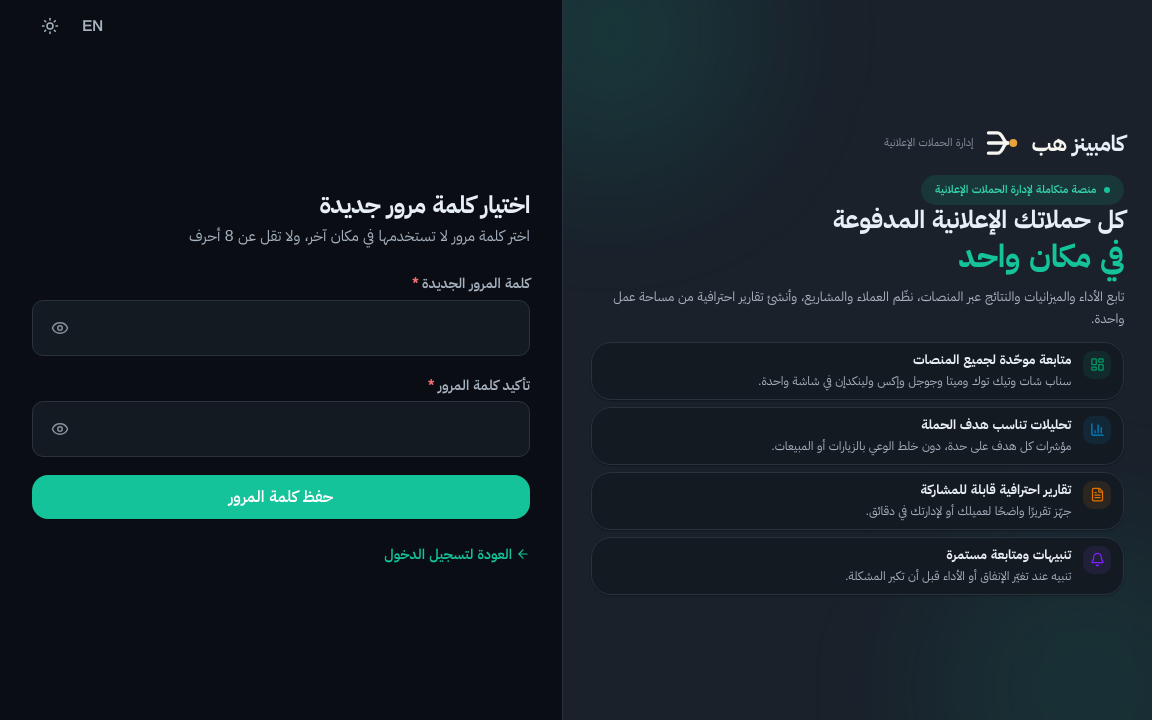
the reset-password page › confirms and offers the way back to sign in
The width and height of the screenshot is (1152, 720).
Type "a-good-password" into the password field labelled "كلمة المرور الجديدة *".
click(281, 328); type("a-good-password")  # box [32,300,530,356]
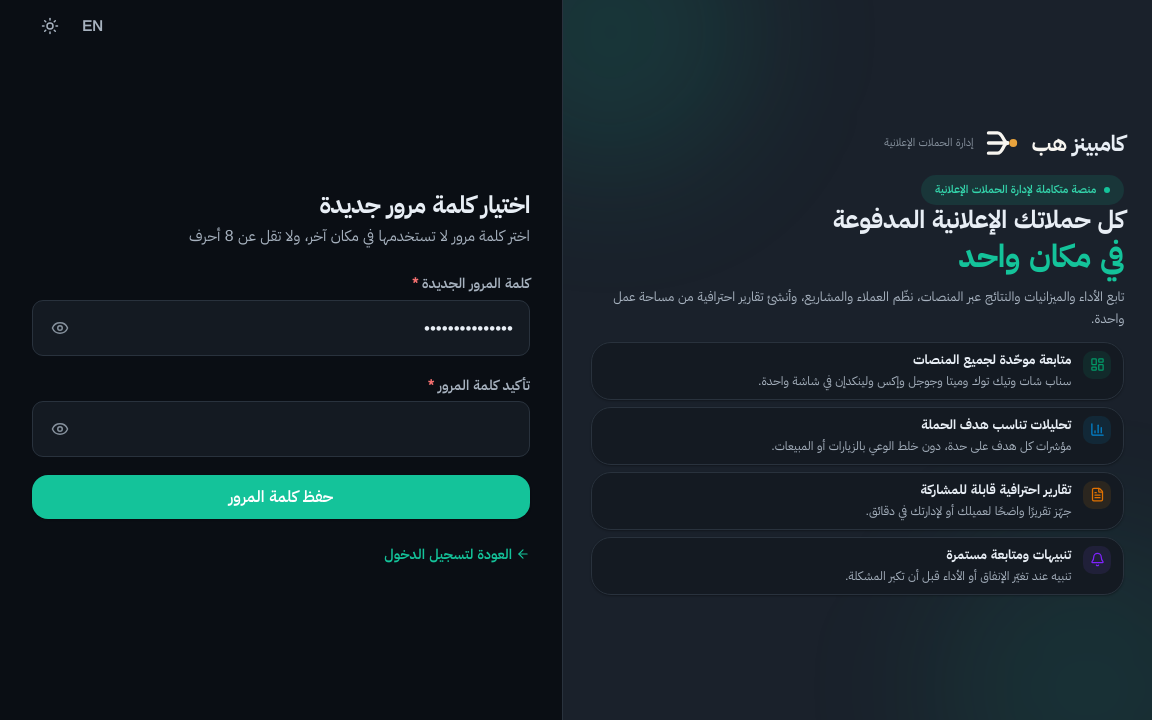
Type "a-good-password" into the password field labelled "تأكيد كلمة المرور *".
click(281, 429); type("a-good-password")  # box [32,401,530,457]
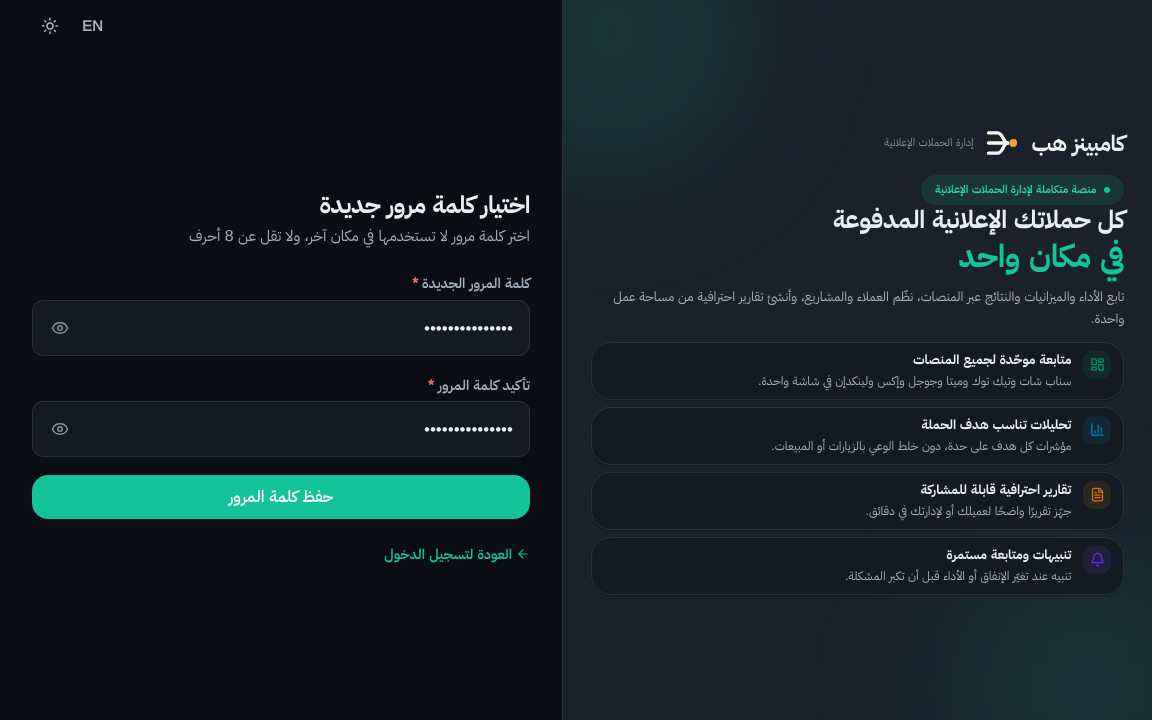
Click the button "حفظ كلمة المرور".
click(281, 497)  # box [32,475,530,519]
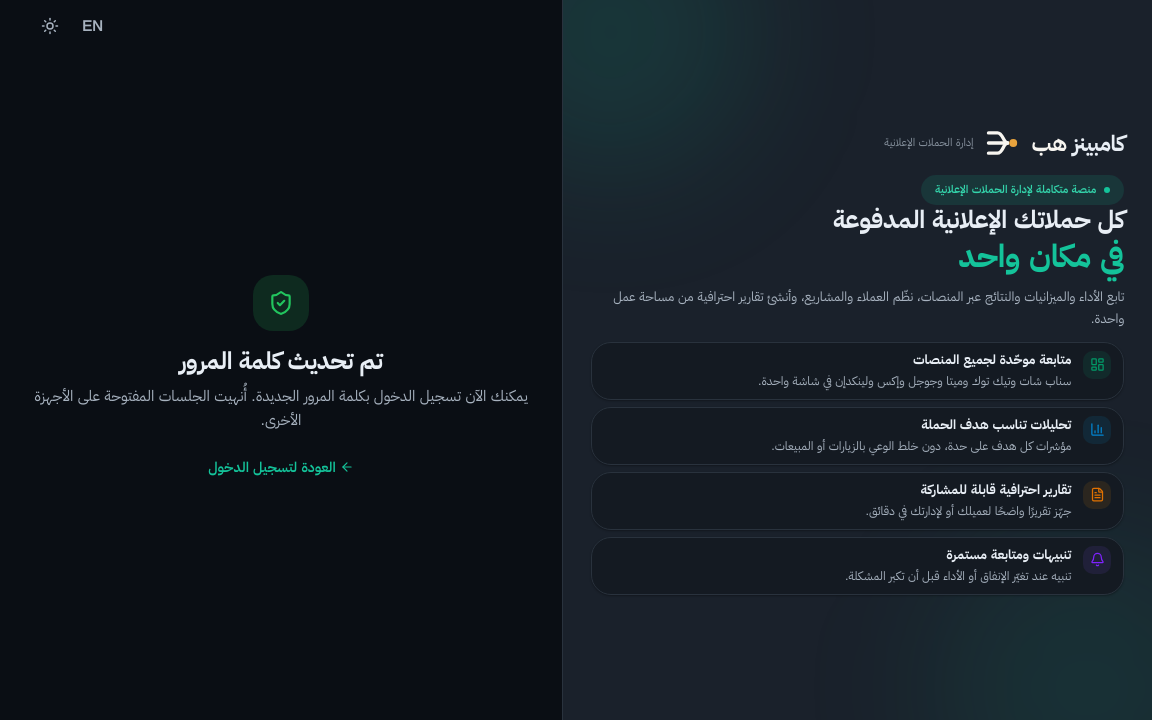
Now the heading "تم تحديث كلمة المرور" is shown, box [179,346,382,375]
